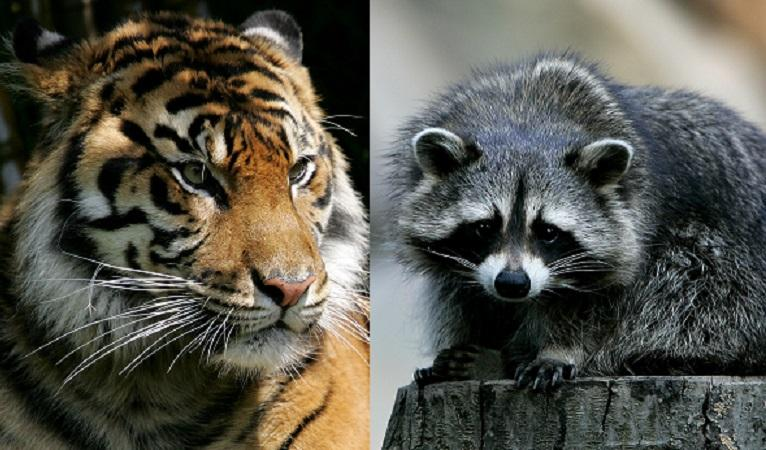raccoon: (405, 47, 766, 401)
